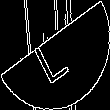L_NW: (33, 26, 77, 84)
